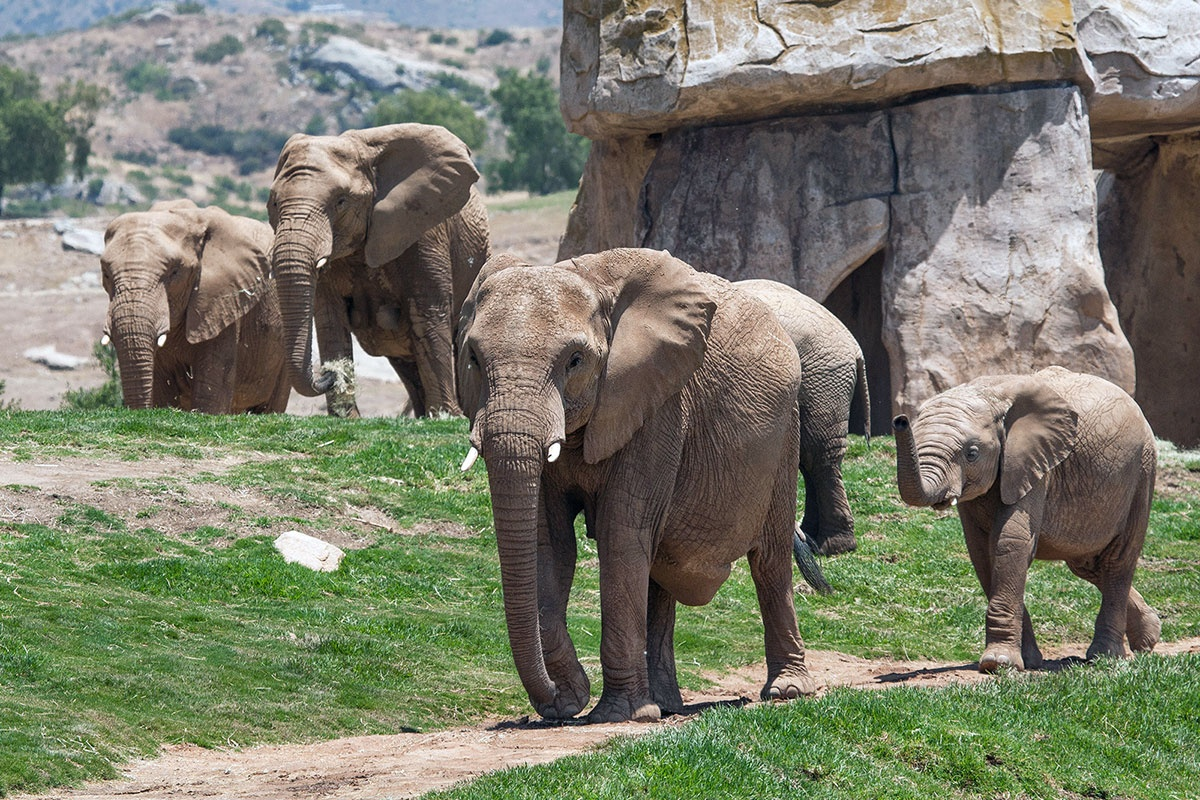elephant: (441, 247, 817, 713), (895, 365, 1172, 669), (262, 120, 494, 428), (102, 196, 298, 414)
